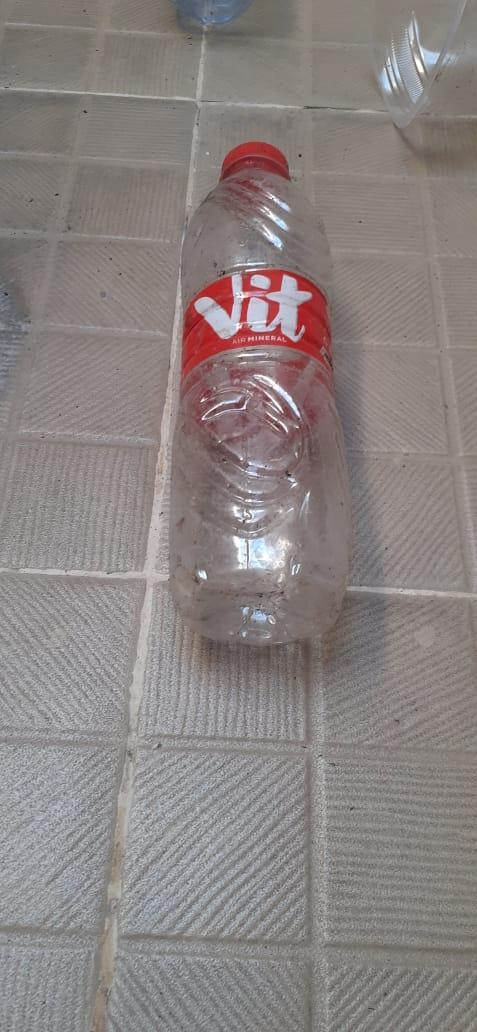Plastik: (170, 139, 349, 648)
